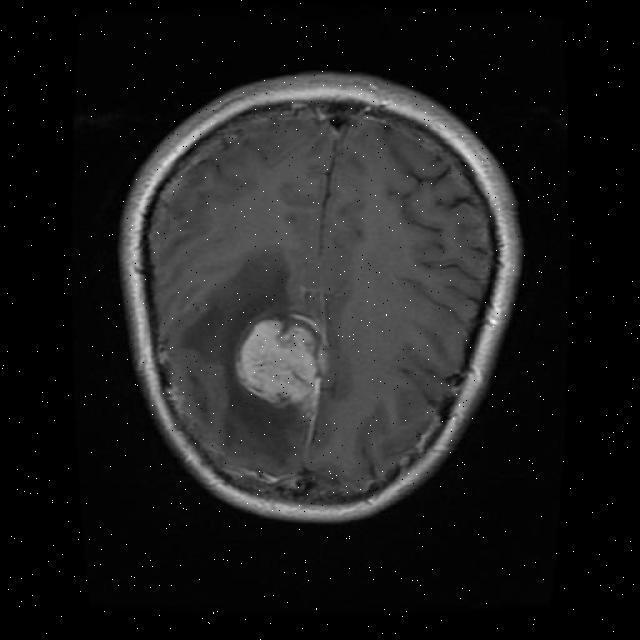Meningioma: (236, 314, 324, 424)
